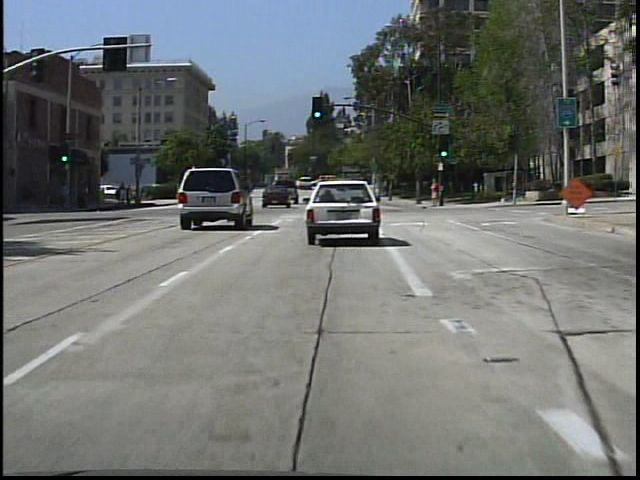person: (424, 174, 441, 209), (115, 178, 128, 206), (130, 182, 131, 209)
